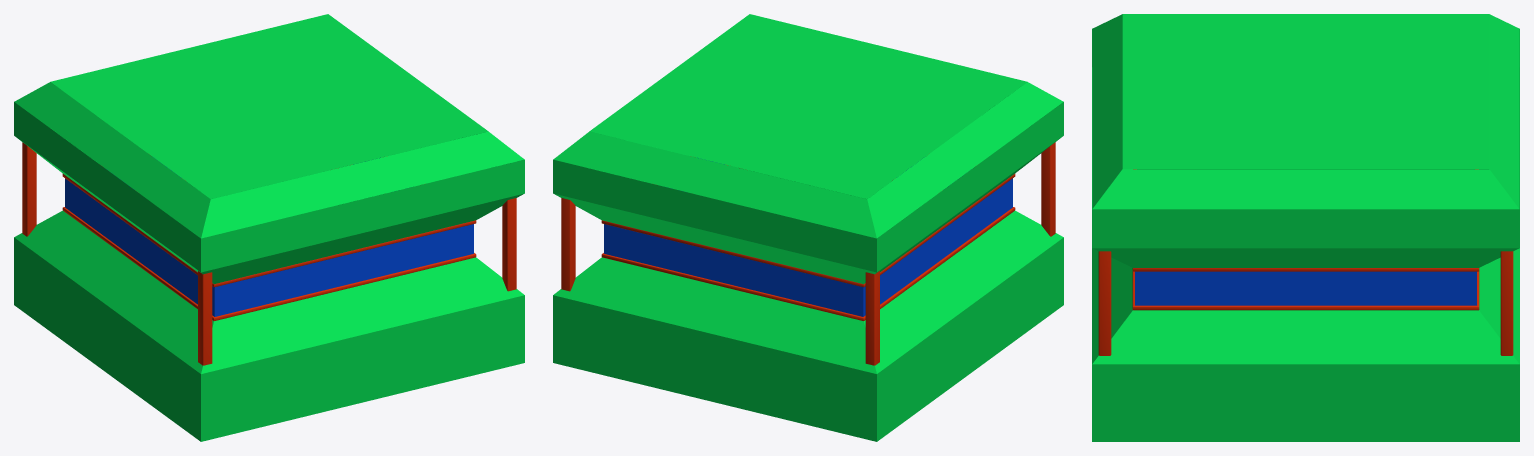
The model's file is Building_01.fbx.
3 views of the same model, side by side, from view 1: azimuth 30°, elevation 25°; view 2: azimuth 150°, elevation 25°; view 3: azimuth 270°, elevation 25° (orthographic). The views are drawn at different scales.
Parts seen in each view (by area): view 1: Building_01; view 2: Building_01; view 3: Building_01.
Boxes of the visible parts, bbox=[...] form: Building_01: bbox=[14, 14, 524, 441]; Building_01: bbox=[553, 14, 1063, 441]; Building_01: bbox=[1092, 14, 1519, 441].
Bounding box in the file's own units: 5000 × 3355 × 5000.
